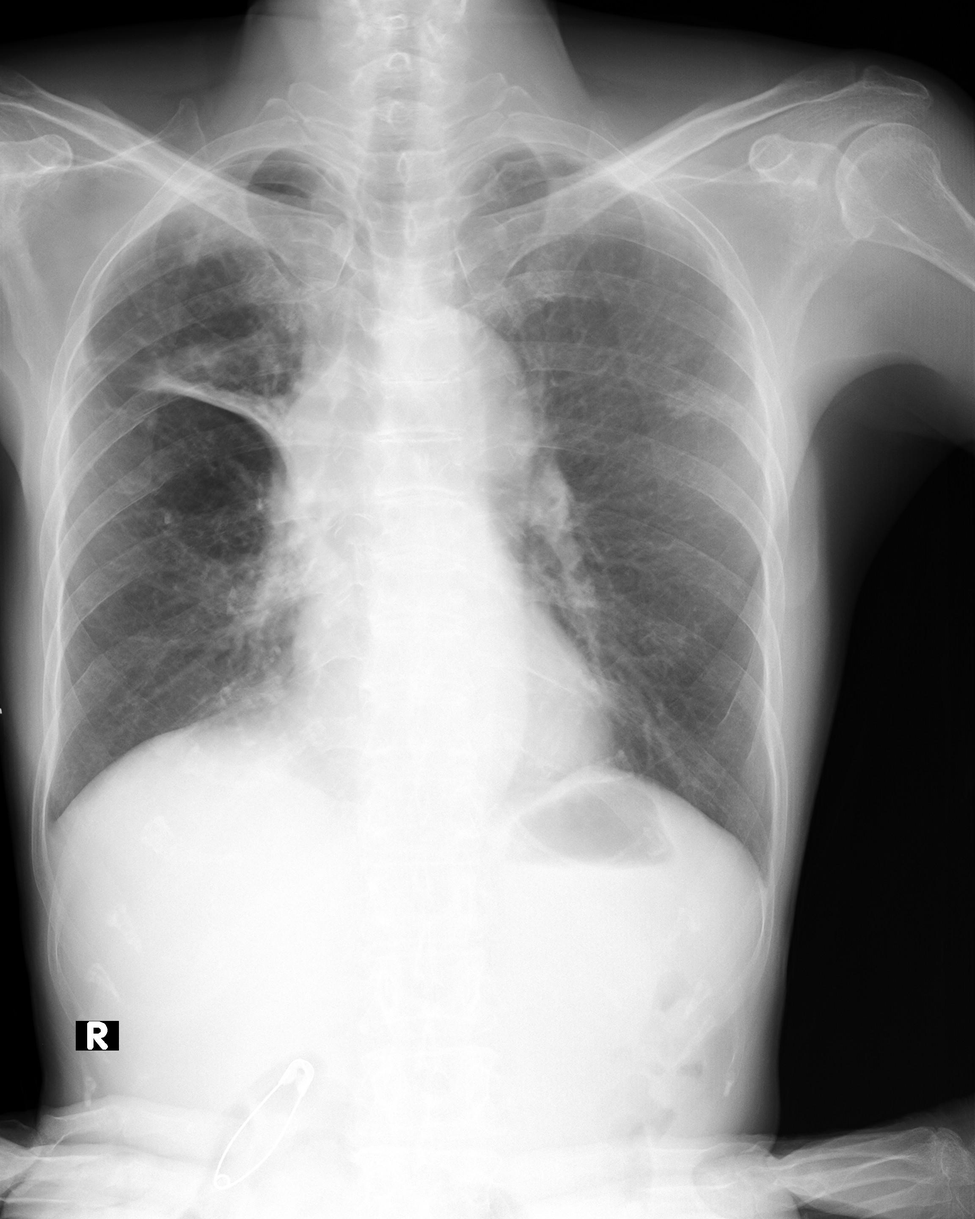Aortic enlargement: (410, 309, 533, 454)
Pleural thickening: (31, 800, 73, 846)
Pulmonary fibrosis: (148, 200, 288, 388), (124, 359, 302, 484), (654, 381, 739, 420)
